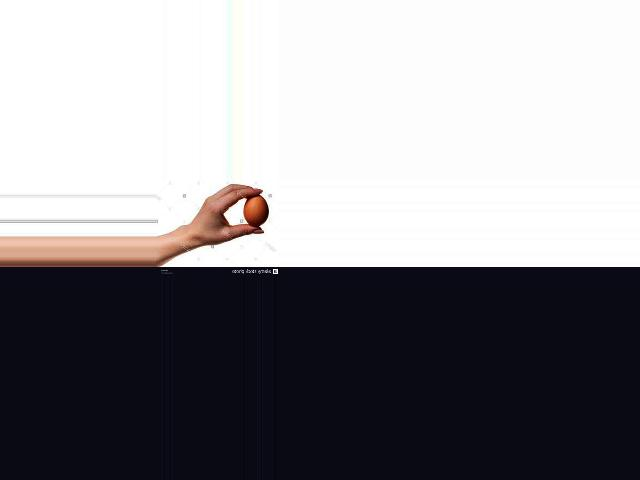egg: (241, 195, 268, 227)
